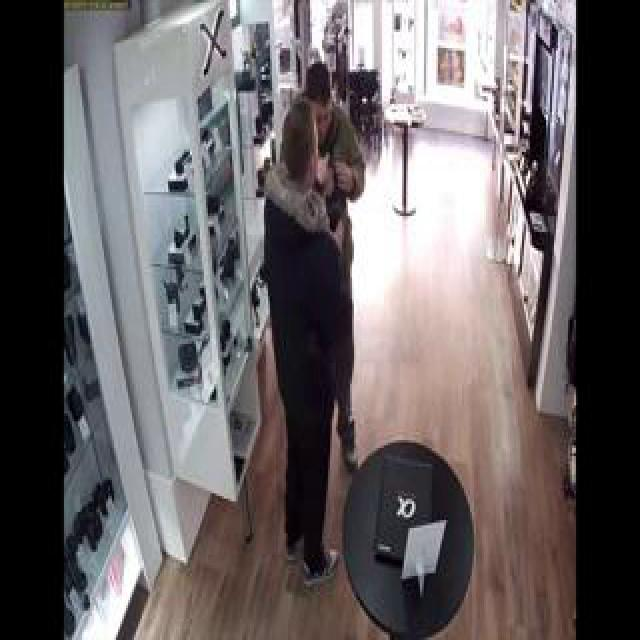shoplifting: (228, 0, 518, 629)
